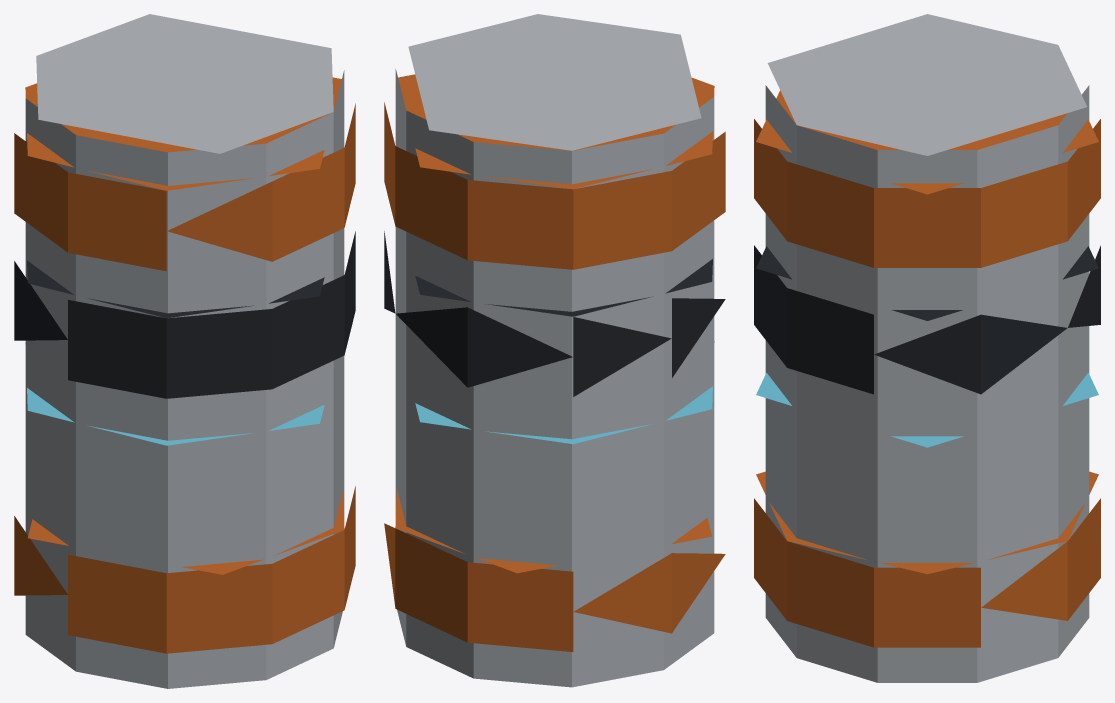
The model's file is code-cylinder.lod.glb.
3 renders of one model, left to right at view 1: azimuth 30°, elevation 25°; view 2: azimuth 150°, elevation 25°; view 3: azimuth 270°, elevation 25°, orthographic.
Visible parts, largest first — view 1: m; view 2: m; view 3: m.
Boxes of the visible parts, x1=… form: m: x1=14, y1=14, x2=355, y2=688; m: x1=384, y1=14, x2=725, y2=687; m: x1=754, y1=14, x2=1100, y2=682.
Size of the model in its own units: 0.0245 by 0.04 by 0.0236.
